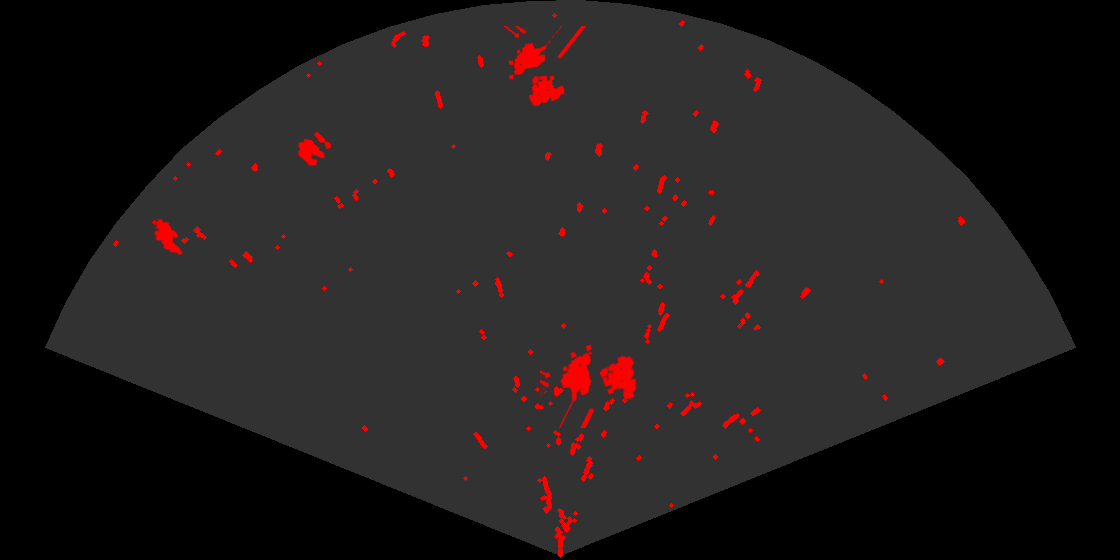AUV: (153, 217, 184, 257)
ball: (297, 130, 333, 168)
cage: (540, 343, 638, 428), (502, 26, 587, 108)
